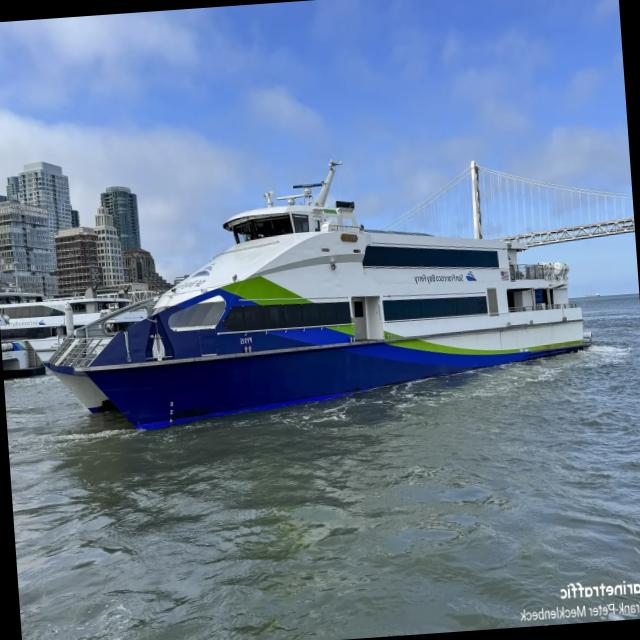Passenger: (44, 163, 590, 428)
